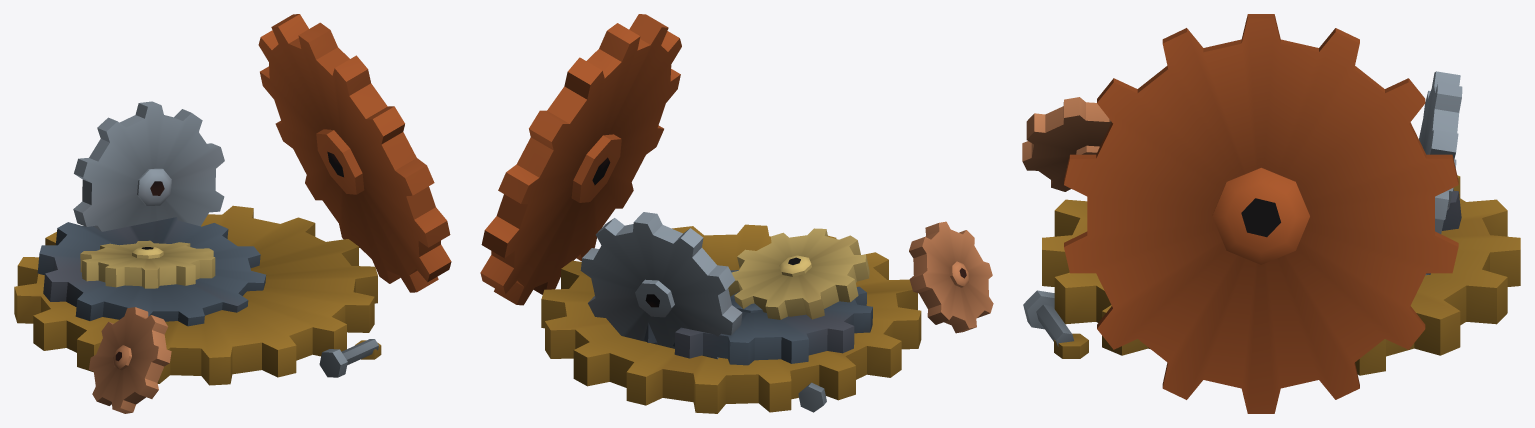
The model's file is cog_pile.glb.
3 renders of one model, left to right at view 1: azimuth 30°, elevation 25°; view 2: azimuth 150°, elevation 25°; view 3: azimuth 270°, elevation 25°, orthographic. The views are drawn at different scales.
Visible parts, largest first — view 1: cog_pile; view 2: cog_pile; view 3: cog_pile.
Part boxes in pixels (x1,y1,x2,y2): cog_pile: (14,14,451,413); cog_pile: (480,14,993,413); cog_pile: (1022,14,1520,413).
Bounding box in the file's own units: 1.13 × 0.7897 × 0.9972.
